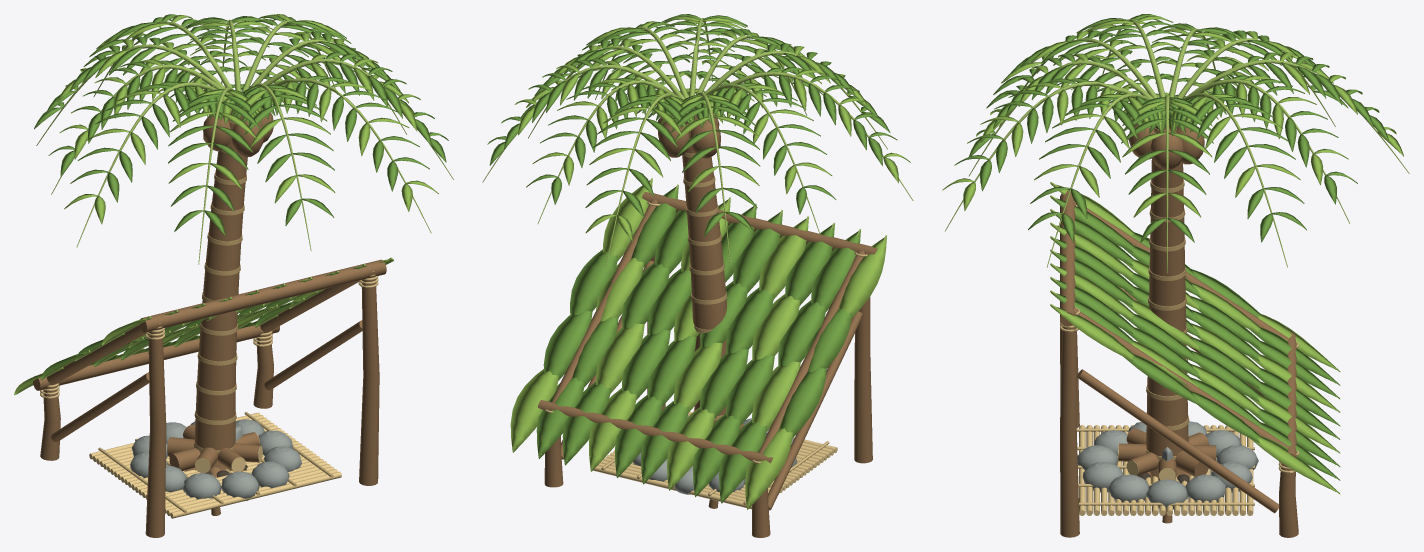
File: survival-props-10.glb
The picture shows the model from 3 angles, left to right: view 1: azimuth 30°, elevation 25°; view 2: azimuth 150°, elevation 25°; view 3: azimuth 270°, elevation 25°; orthographic projection. The views are drawn at different scales.
Visible parts, largest first — view 1: crown_leaf, Shelter_bark, crown_light, stem_bark, crown_vein, Fire_stone, Shelter_cut, Fire_bark, Shelter_leaf, stem_scar, Shelter_vein, Shelter_rope (+2 smaller); view 2: Shelter_leaf, Shelter_light, crown_leaf, Shelter_bark, crown_light, crown_vein, stem_bark, Shelter_cut, crown_bark, stem_scar, Fire_stone; view 3: crown_leaf, Shelter_leaf, Shelter_bark, Shelter_light, crown_light, Fire_stone, crown_vein, stem_bark, Shelter_cut, Fire_bark, crown_bark, Shelter_rope (+1 smaller).
Part boxes in pixels (x1,y1,x2,y2): crown_leaf: (34,14,448,235); Shelter_bark: (33,259,386,537); crown_light: (57,14,438,224); stem_bark: (194,109,247,450); crown_vein: (36,19,453,264); Fire_stone: (130,419,301,501); Shelter_cut: (89,412,341,518); Fire_bark: (167,424,260,473); Shelter_leaf: (41,265,366,378); stem_scar: (193,119,246,453); Shelter_vein: (16,257,392,394); Shelter_rope: (40,271,378,513); Shelter_leaf: (536,186,860,503); Shelter_light: (510,180,886,509); crown_leaf: (487,14,897,236); Shelter_bark: (538,192,877,537); crown_light: (514,16,910,241); crown_vein: (482,18,913,267); stem_bark: (682,108,726,423); Shelter_cut: (593,411,837,509); crown_bark: (658,112,720,158); stem_scar: (682,124,727,420); Fire_stone: (633,415,797,494); crown_leaf: (954,14,1388,242); Shelter_leaf: (1050,197,1340,480); Shelter_bark: (1060,191,1298,537); Shelter_light: (1050,184,1340,493); crown_light: (942,16,1403,217); Fire_stone: (1077,421,1258,509); crown_vein: (945,19,1409,273); stem_bark: (1146,124,1188,456); Shelter_cut: (1079,425,1253,515); Fire_bark: (1118,428,1216,479); crown_bark: (1128,120,1204,169); Shelter_rope: (1060,205,1299,505).
Bounding box in the file's own units: 3.58 × 4.25 × 3.84.
